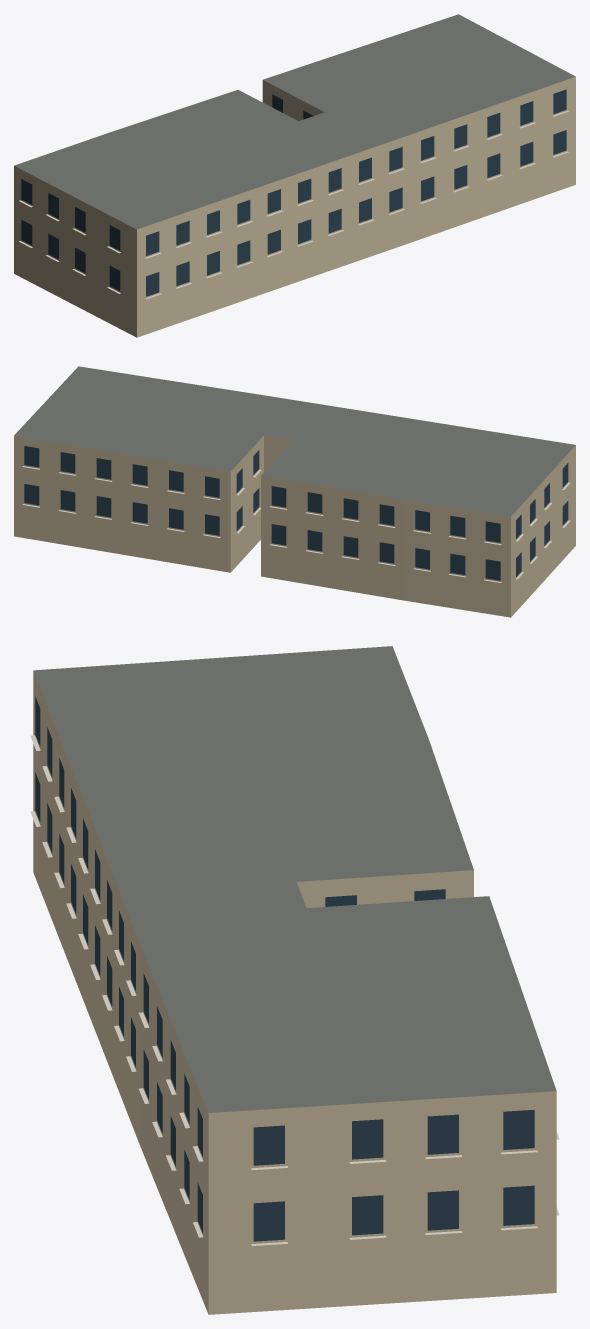
3 views of the same model, one above another, from view 1: azimuth 30°, elevation 25°; view 2: azimuth 150°, elevation 25°; view 3: azimuth 270°, elevation 25° (orthographic). The views are drawn at different scales.
Visible parts, largest first — view 1: Footprint 0, Inferred window bays, Window sills; view 2: Footprint 0, Inferred window bays, Window sills; view 3: Footprint 0, Inferred window bays, Window sills.
Boxes of the visible parts, left/top/right/bottom form: Footprint 0: left=14, top=14, right=575, bottom=337; Inferred window bays: left=21, top=89, right=566, bottom=296; Window sills: left=19, top=111, right=568, bottom=299; Footprint 0: left=14, top=366, right=575, bottom=617; Inferred window bays: left=24, top=446, right=568, bottom=580; Window sills: left=22, top=466, right=570, bottom=582; Footprint 0: left=33, top=646, right=556, bottom=1314; Inferred window bays: left=35, top=696, right=534, bottom=1241; Window sills: left=30, top=735, right=559, bottom=1245.
Size of the model in its own units: 43.19 by 8.68 by 20.65.
